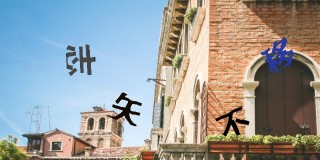不: (215, 106, 250, 137)
志: (63, 43, 99, 77)
矢: (109, 90, 142, 126)
移: (260, 35, 294, 74)
